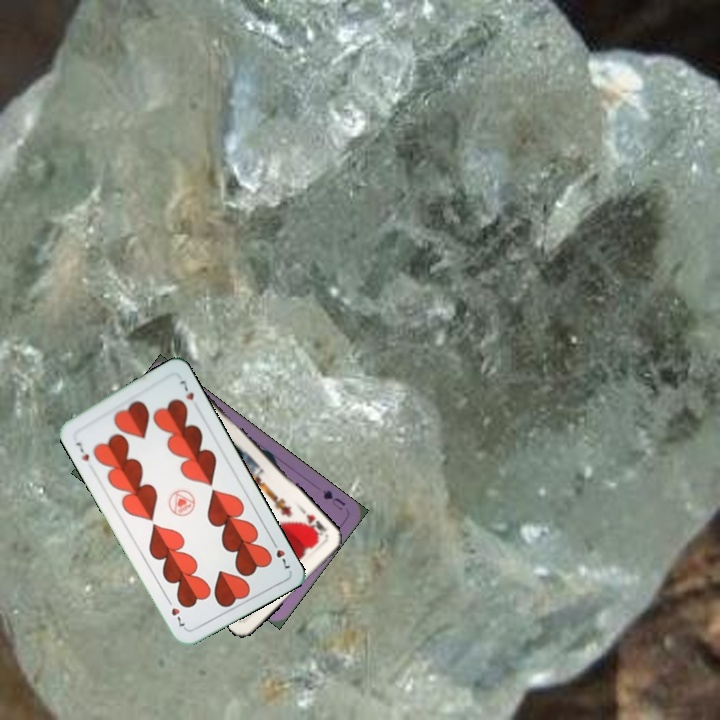GU: (319, 486, 348, 513)
H7: (267, 535, 292, 572), (72, 438, 92, 463)
HK: (300, 510, 329, 540)
